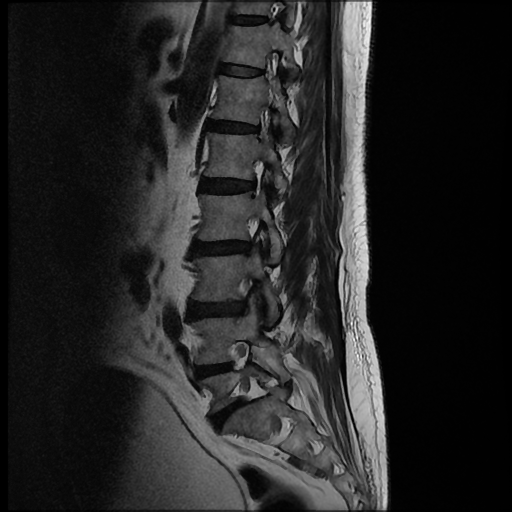LFS0: (220, 331, 268, 379)
LFS1: (235, 150, 273, 204)
